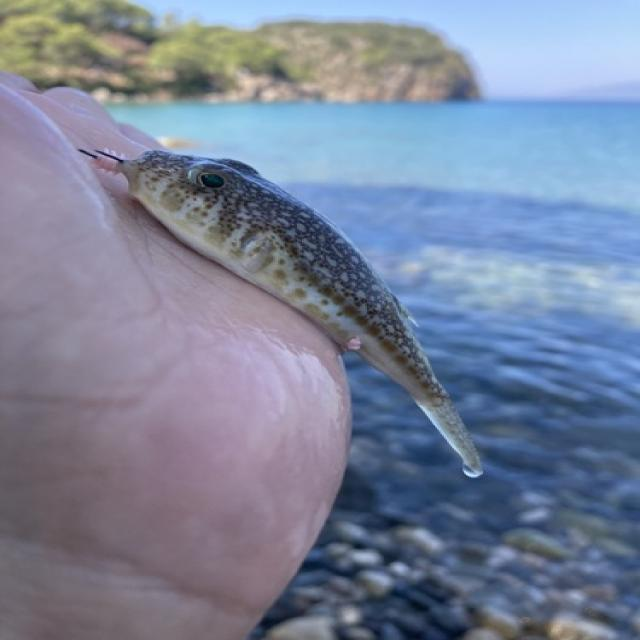Balik: (81, 150, 481, 476)
